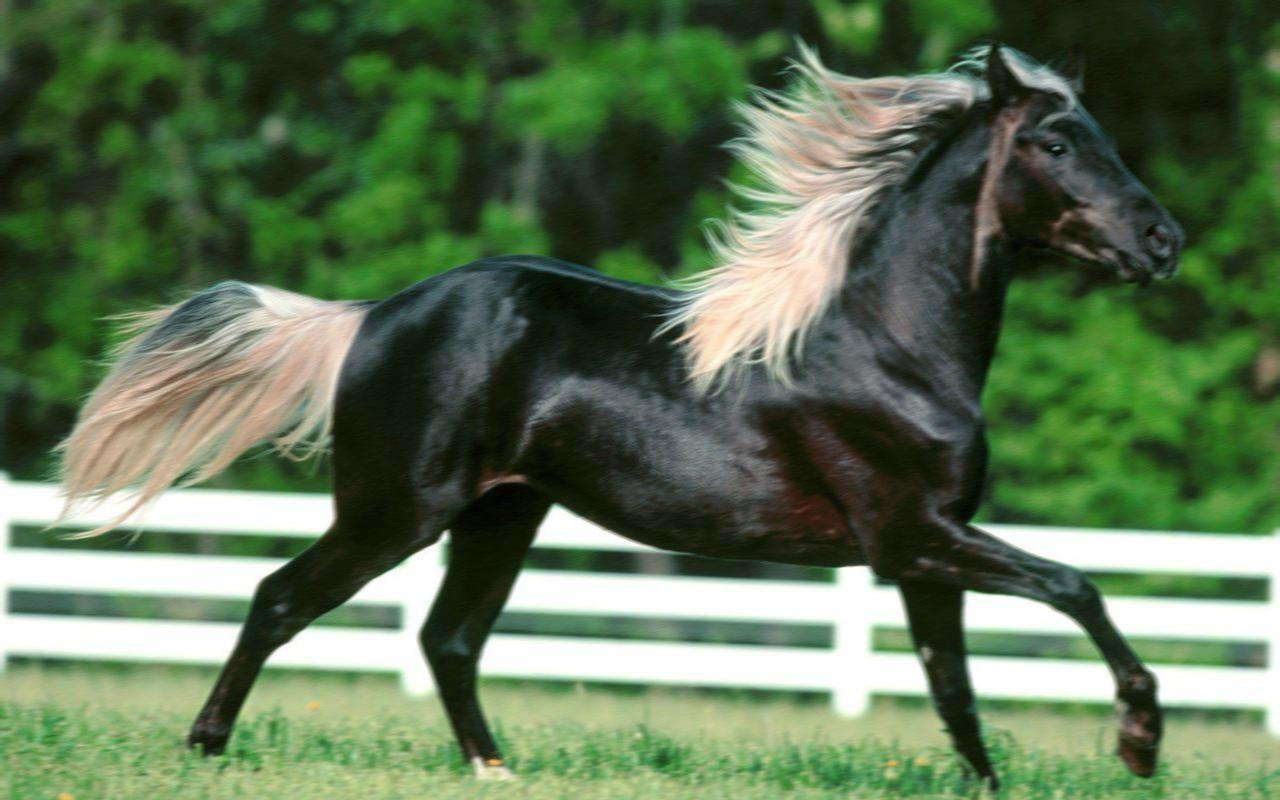horse: (39, 27, 1200, 798)
